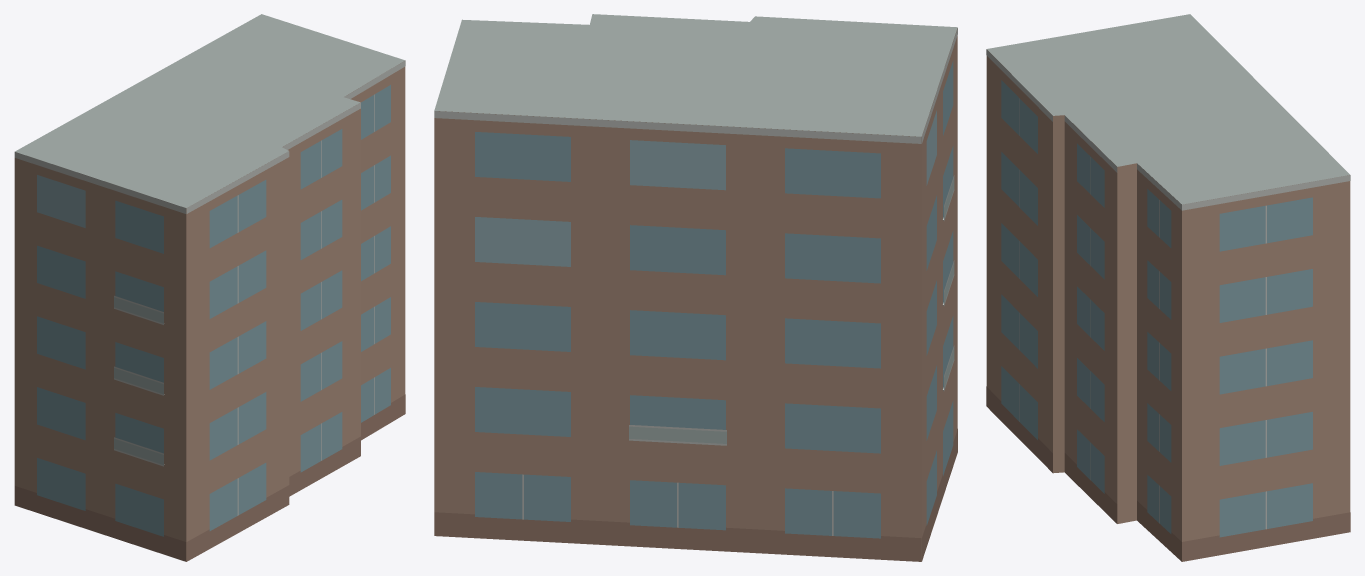
The model's file is survey-upis-32968118.glb.
3 views of the same model, side by side, from view 1: azimuth 30°, elevation 25°; view 2: azimuth 150°, elevation 25°; view 3: azimuth 270°, elevation 25° (orthographic). The views are drawn at different scales.
Visible parts, largest first — view 1: survey-upis-32968118.tmp; view 2: survey-upis-32968118.tmp; view 3: survey-upis-32968118.tmp.
Boxes of the visible parts, left/top/right/bottom form: survey-upis-32968118.tmp: left=14, top=14, right=405, bottom=561; survey-upis-32968118.tmp: left=434, top=14, right=957, bottom=561; survey-upis-32968118.tmp: left=986, top=14, right=1350, bottom=561.
Size of the model in its own units: 16.37 by 14.3 by 13.21.
